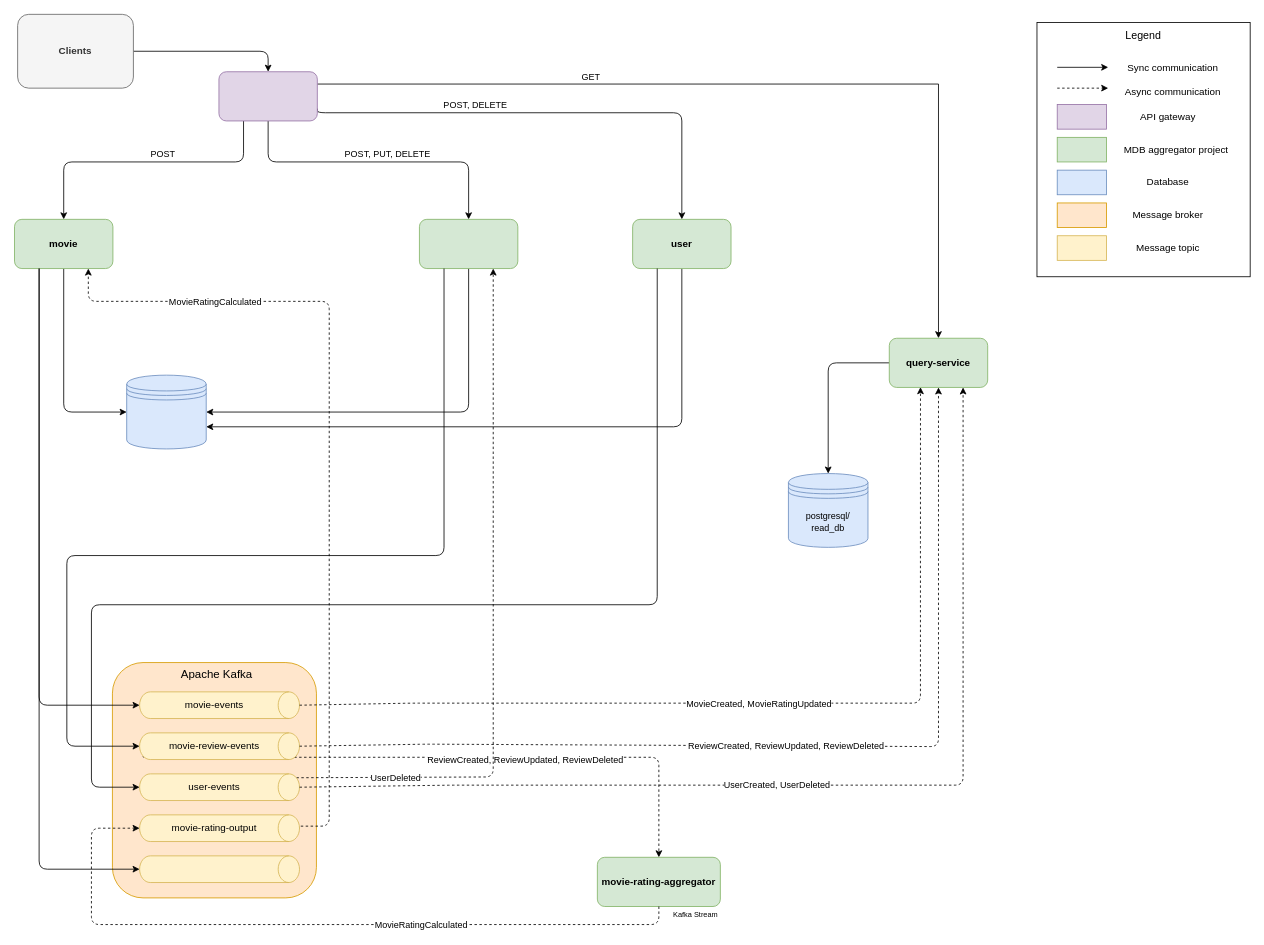
This 1264x945 diagram has some shape labels left out. Each missing label, with the centre of its shape:
"mdb-gateway" goes at (x=267, y=96).
"movie-context-consumer-DLT" goes at (x=219, y=869).
"movie-review" goes at (x=468, y=244).
"postgresql/ mdb_data" goes at (x=166, y=411).
